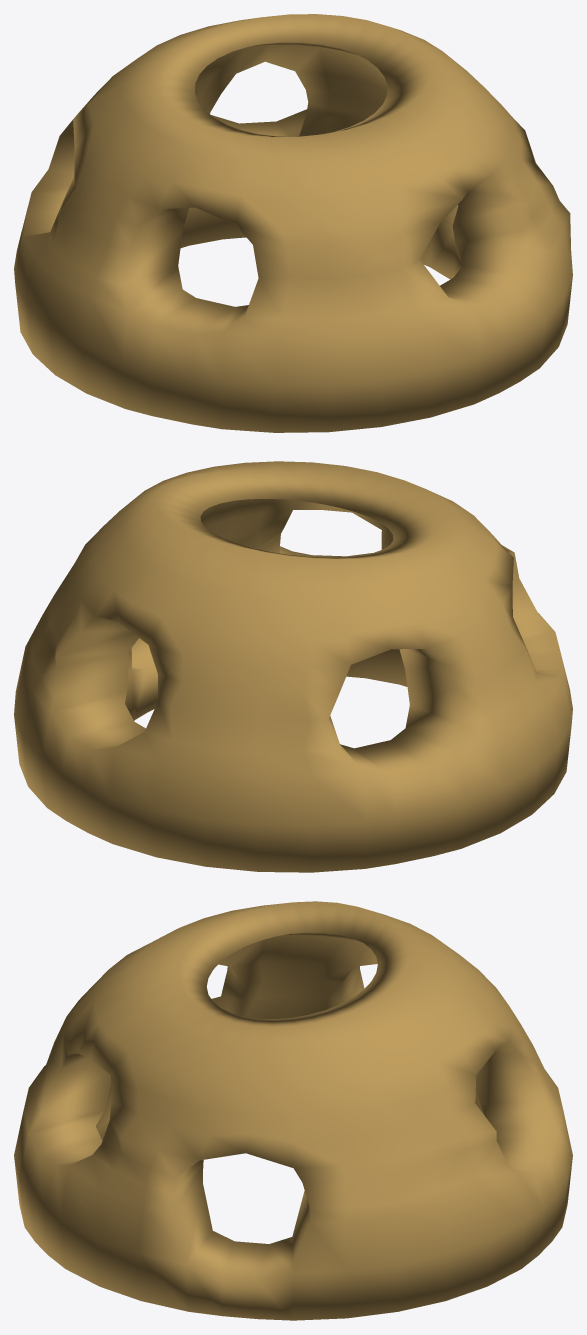
The model's file is SM_artificial_reef_vo2.fbx.
The picture shows the model from 3 angles, top to bottom: view 1: azimuth 30°, elevation 25°; view 2: azimuth 150°, elevation 25°; view 3: azimuth 270°, elevation 25°; orthographic projection.
Visible parts, largest first — view 1: Sphere; view 2: Sphere; view 3: Sphere.
Part boxes in pixels (left/top/right/bottom): Sphere: left=14, top=14, right=572, bottom=432; Sphere: left=14, top=461, right=572, bottom=872; Sphere: left=14, top=901, right=572, bottom=1320.
Bounding box in the file's own units: 49.04 × 24.58 × 49.04.
